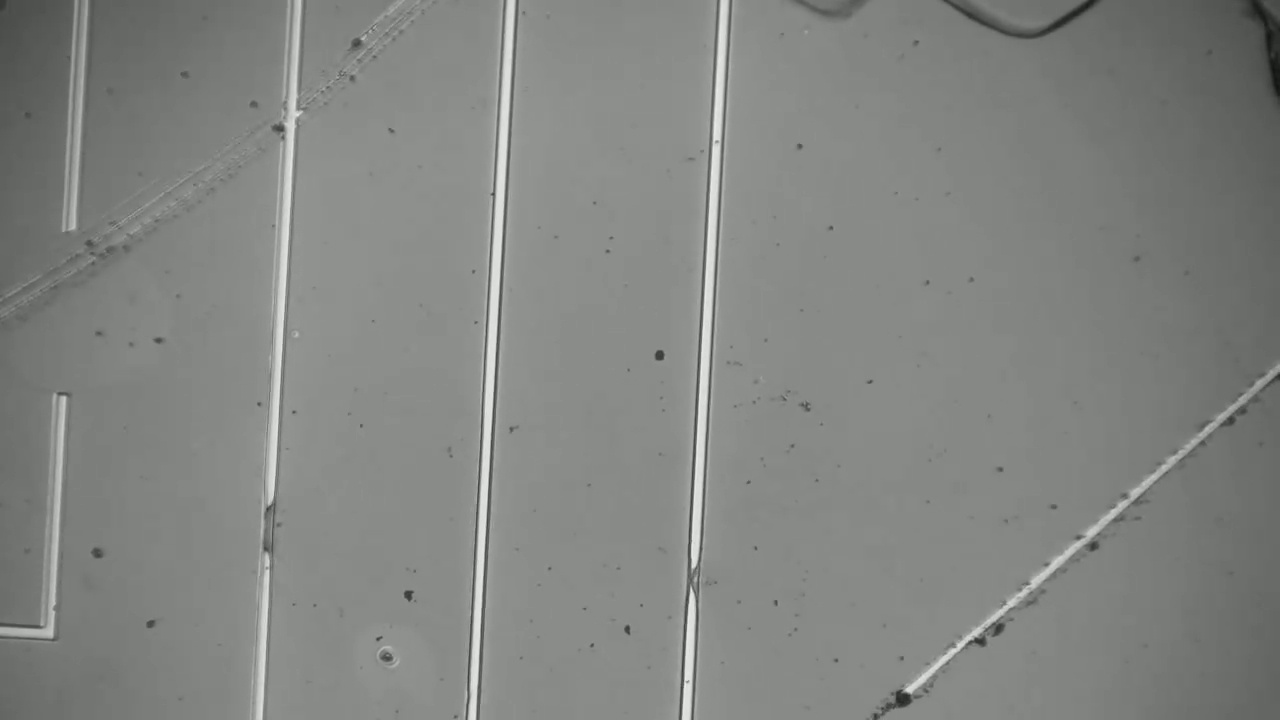gray_line: (237, 480, 288, 581), (673, 536, 711, 612)
open: (16, 187, 114, 445)
scratch: (0, 1, 440, 357), (859, 358, 1279, 710)
